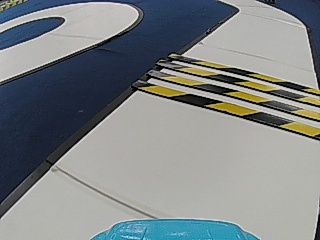bump: (161, 63, 302, 128)
